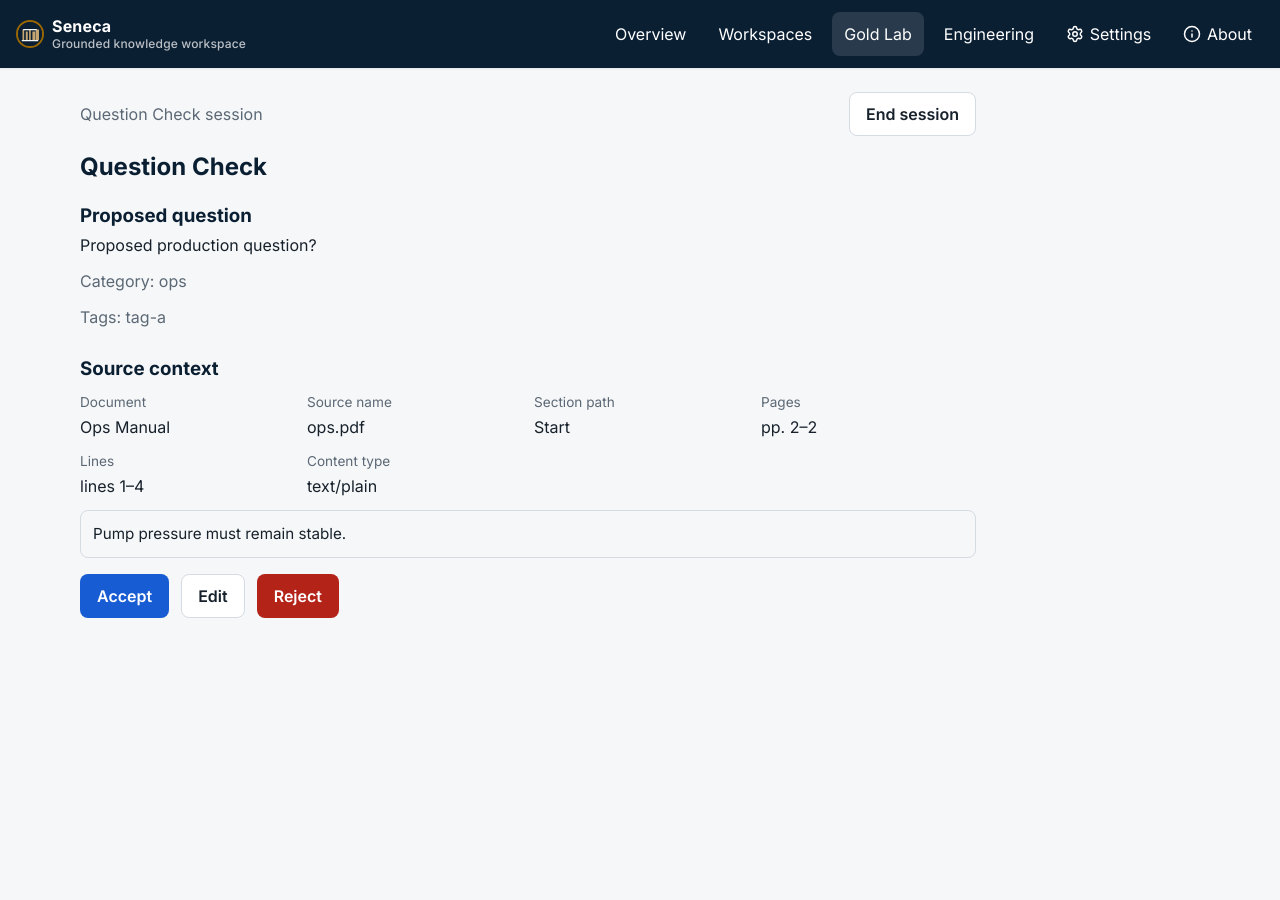
Test: 16N-A QC ALLOW_PRODUCTION policy › QC-WORK: /work mounts production QC presentation and mutation path
Expected: the element with test id "question-check-presentation" is shown, x1=80 y1=152 x2=976 y2=634
Expected: the text "Proposed production question?" is shown, x1=80 y1=235 x2=317 y2=255
Click the button "Accept": [125, 596] box x1=80 y1=574 x2=169 y2=618
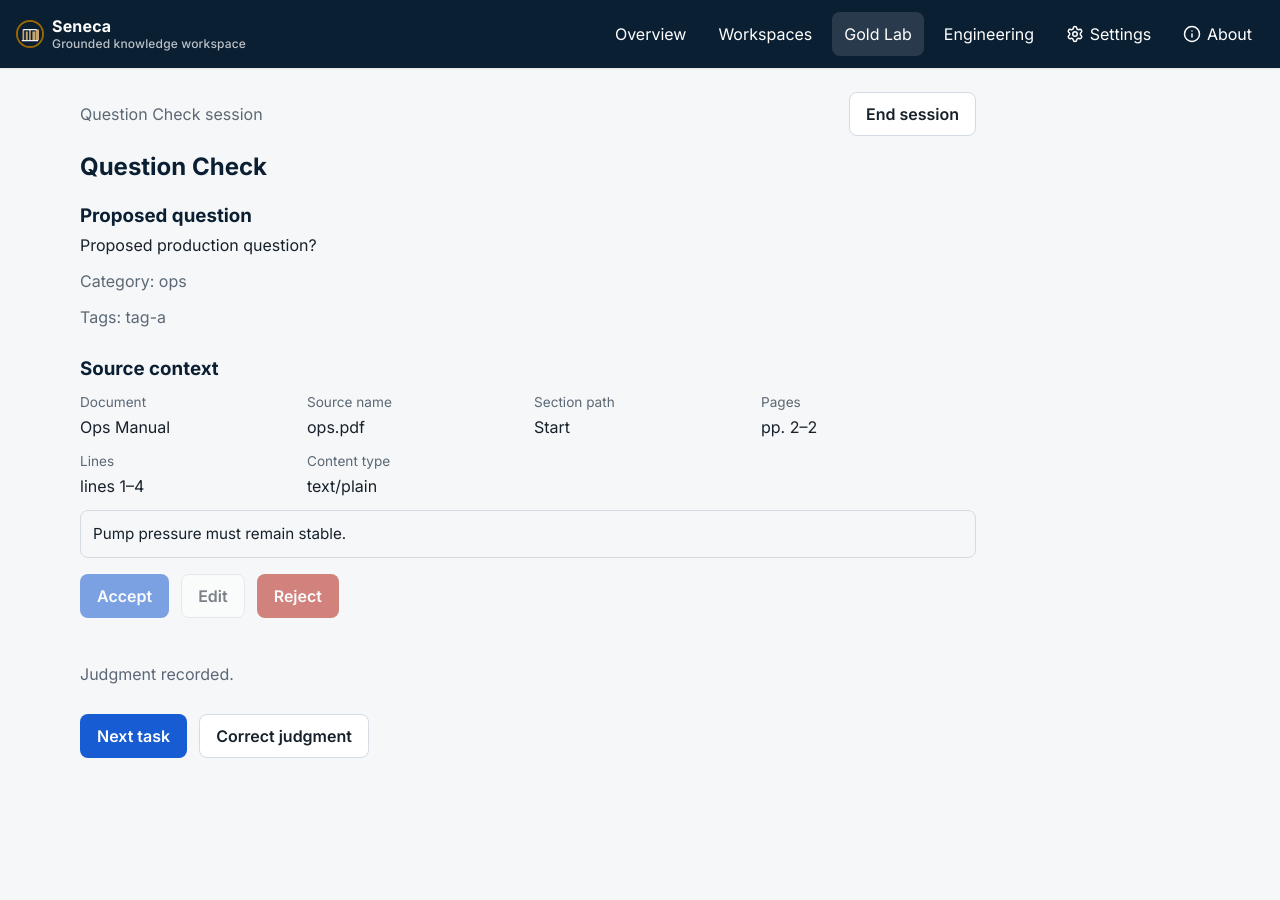
Now the text "Judgment recorded." is shown, box x1=80 y1=664 x2=234 y2=684
